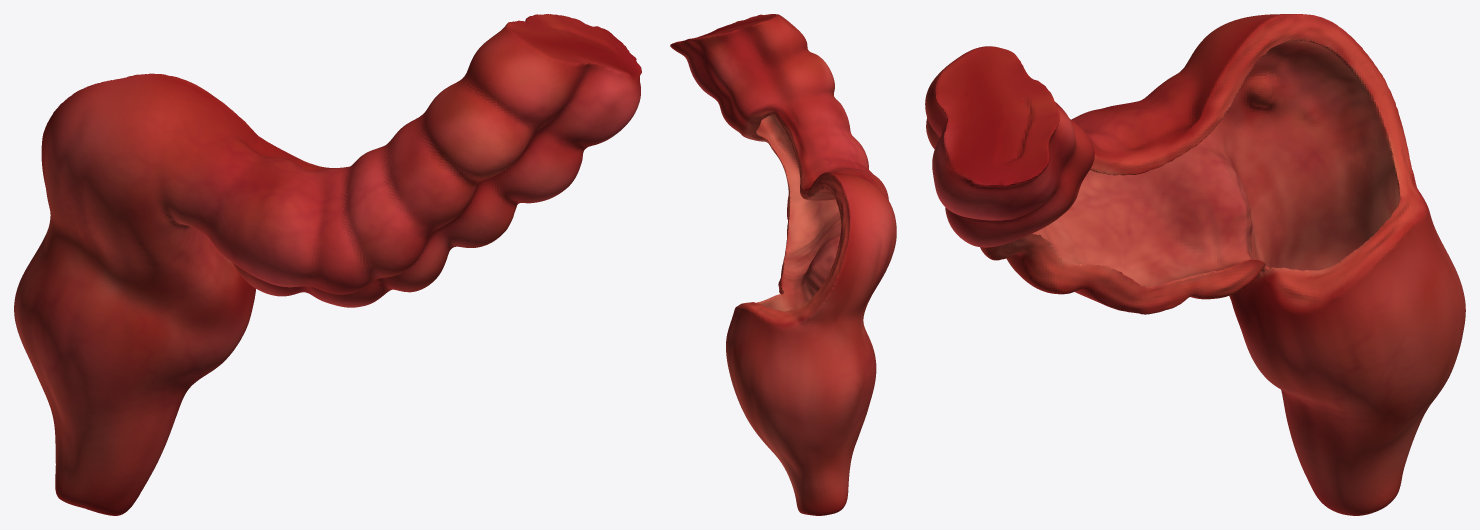
Rendered from stage-1-m-v1.glb.
3 views of the same model, side by side, from view 1: azimuth 30°, elevation 25°; view 2: azimuth 150°, elevation 25°; view 3: azimuth 270°, elevation 25° (orthographic). The views are drawn at different scales.
Visible parts, largest first — view 1: BOOLEAN COLON HEALTHY1; view 2: BOOLEAN COLON HEALTHY1; view 3: BOOLEAN COLON HEALTHY1.
Part boxes in pixels (x1,y1,x2,y2): BOOLEAN COLON HEALTHY1: [14, 14, 641, 515]; BOOLEAN COLON HEALTHY1: [670, 14, 896, 515]; BOOLEAN COLON HEALTHY1: [925, 14, 1465, 515].
Bounding box in the file's own units: 0.3578 × 0.4251 × 0.3558.
Materials: 1 (1 with a texture image).
